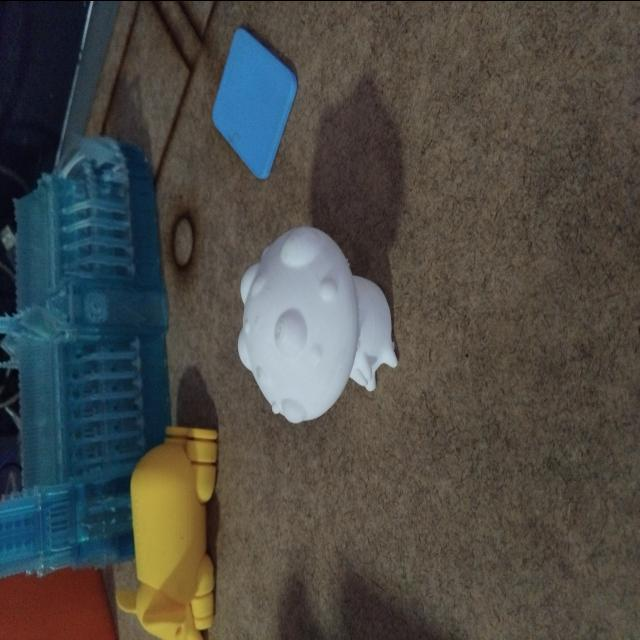Hongo: (221, 216, 415, 437)
